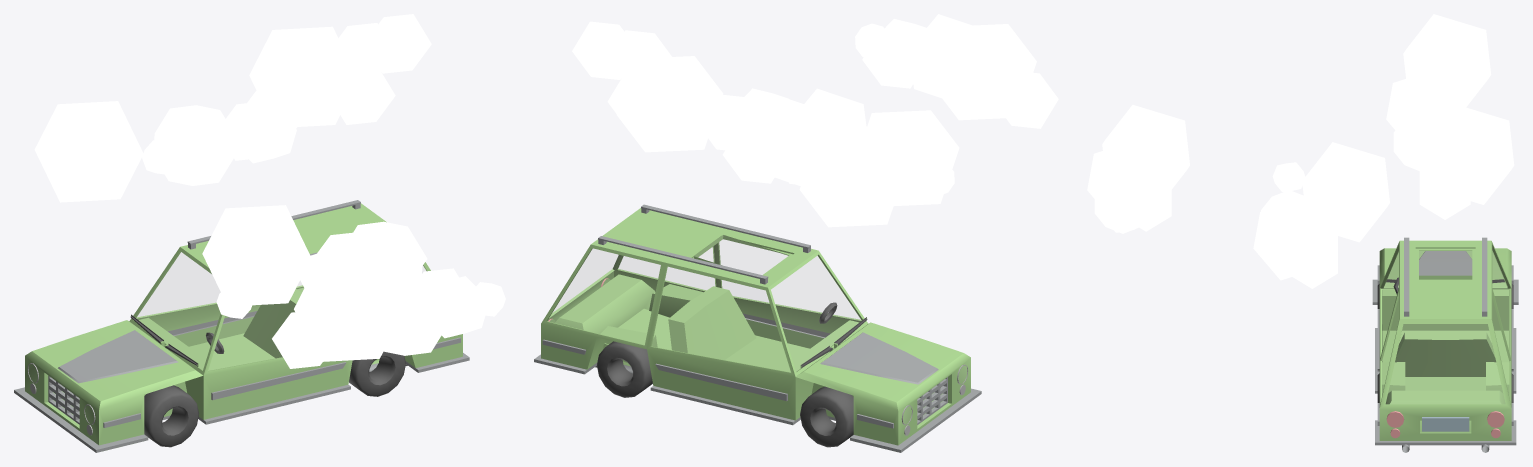
Rendered from test_hebinggltftemp.gltf.
3 renders of one model, left to right at view 1: azimuth 30°, elevation 25°; view 2: azimuth 150°, elevation 25°; view 3: azimuth 270°, elevation 25°, orthographic. The views are drawn at different scales.
Visible parts, largest first — view 1: Car 1-Mat.3, Car 1-Mat.1 (×4), Car 1-Mat (×2), Car 1-Mat.4; view 2: Car 1-Mat.1 (×4), Car 1-Mat.3, Car 1-Mat.4, Car 1-Mat (×2); view 3: Car 1-Mat.3, Car 1-Mat.1 (×4), Car 1-Mat.4, Car 1-Mat.2.
Boxes of the visible parts, x1,y1,x2,y2 form: Car 1-Mat.3: [34, 14, 505, 368]; Car 1-Mat.1 (×4): [14, 200, 469, 452]; Car 1-Mat (×2): [130, 314, 405, 447]; Car 1-Mat.4: [137, 252, 425, 317]; Car 1-Mat.1 (×4): [534, 204, 981, 452]; Car 1-Mat.3: [572, 14, 1058, 227]; Car 1-Mat.4: [550, 240, 860, 320]; Car 1-Mat (×2): [597, 302, 867, 447]; Car 1-Mat.3: [1087, 14, 1514, 288]; Car 1-Mat.1 (×4): [1372, 237, 1518, 445]; Car 1-Mat.4: [1384, 251, 1506, 287]; Car 1-Mat.2: [1386, 411, 1504, 438].
Size of the model in its own units: 247 by 204 by 264.
